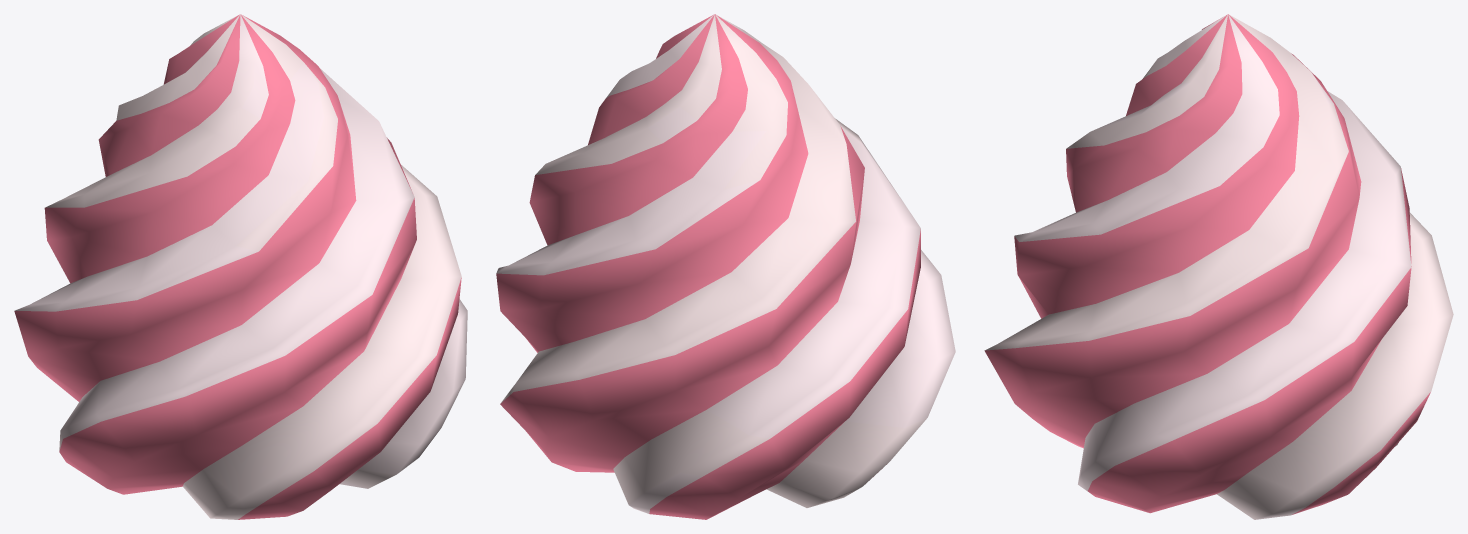
The model's file is Ice Cream Spiral C White Pink.fbx.
The picture shows the model from 3 angles, left to right: view 1: azimuth 30°, elevation 25°; view 2: azimuth 150°, elevation 25°; view 3: azimuth 270°, elevation 25°; orthographic projection.
Parts seen in each view (by area): view 1: Ice Cream Spiral C White Pink; view 2: Ice Cream Spiral C White Pink; view 3: Ice Cream Spiral C White Pink.
Boxes of the visible parts, x1,y1,x2,y2 form: Ice Cream Spiral C White Pink: (14,14,467,519); Ice Cream Spiral C White Pink: (496,14,955,519); Ice Cream Spiral C White Pink: (984,14,1453,519).
Size of the model in its own units: 0.4215 by 0.4617 by 0.4308.
